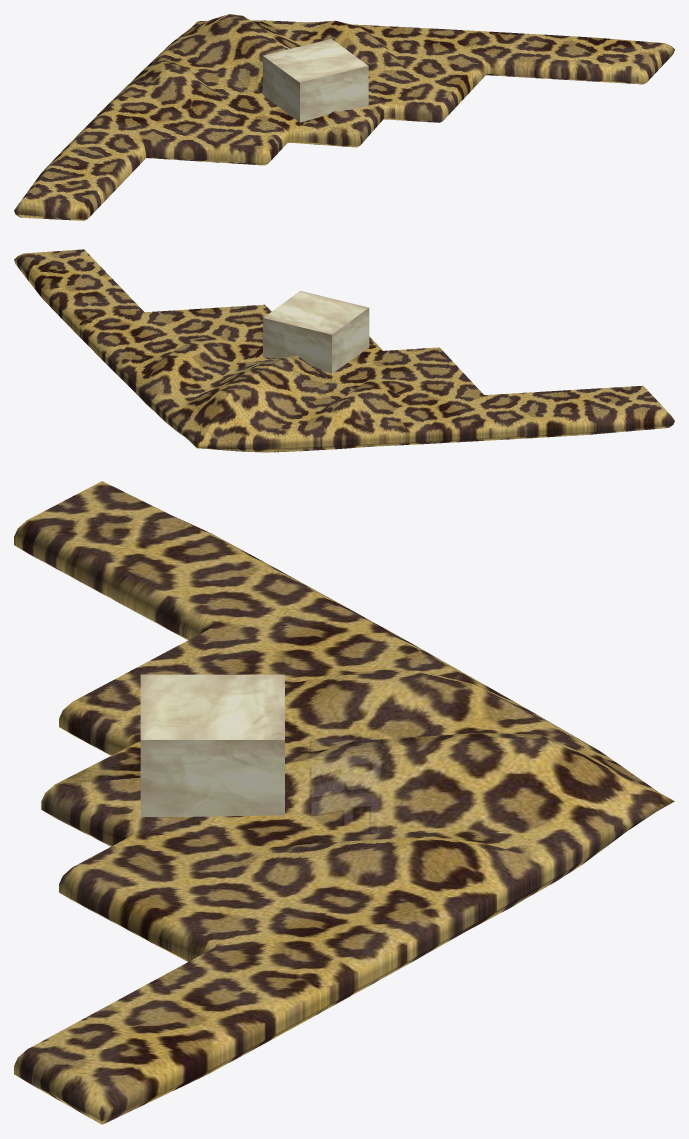
File: B2-leopard.FBX
3 views of the same model, one above another, from view 1: azimuth 30°, elevation 25°; view 2: azimuth 150°, elevation 25°; view 3: azimuth 270°, elevation 25° (orthographic). The views are drawn at different scales.
Parts seen in each view (by area): view 1: B2, Box01; view 2: B2, Box01; view 3: B2, Box01.
Boxes of the visible parts, box(x1,y1,x2,y2) form: B2: box(14, 14, 674, 220); Box01: box(262, 39, 368, 122); B2: box(14, 249, 674, 452); Box01: box(263, 291, 369, 373); B2: box(14, 481, 674, 1124); Box01: box(140, 674, 284, 816).
Size of the model in its own units: 237 by 21.8 by 106.
